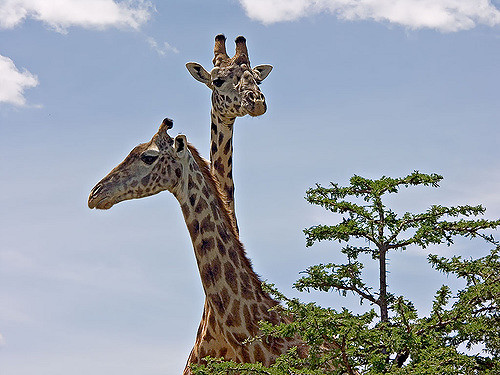giraffe: (91, 132, 291, 362), (192, 25, 281, 279)
